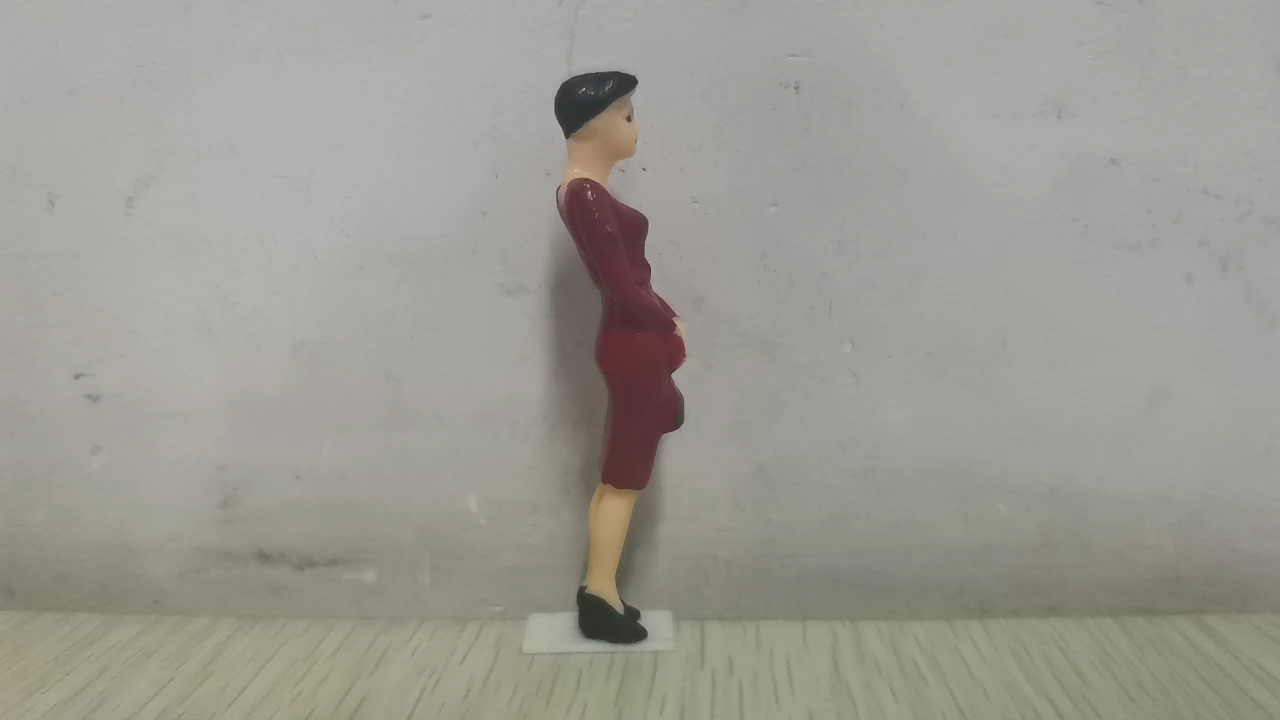person: (550, 68, 687, 646)
